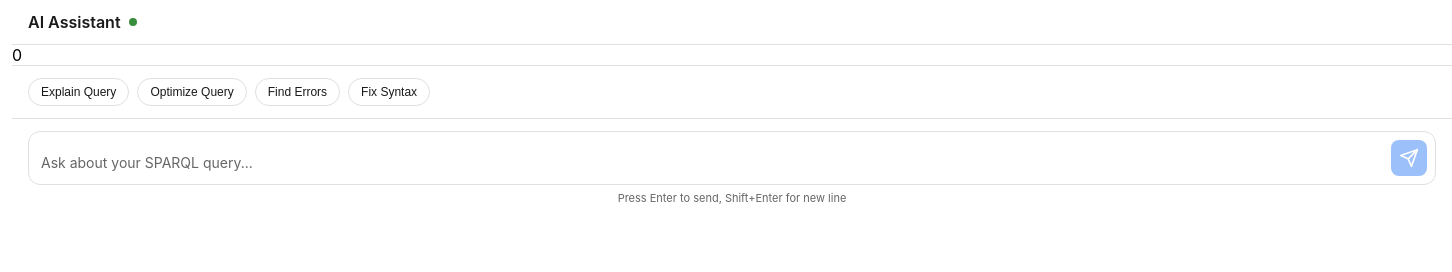
Test: AIPanel - configured › shows thrown stream errors
Type "hi" into the text box with placeholder "Ask about your SPARQL query...".
click(712, 164); type("hi")  # box x1=41 y1=152 x2=1383 y2=176
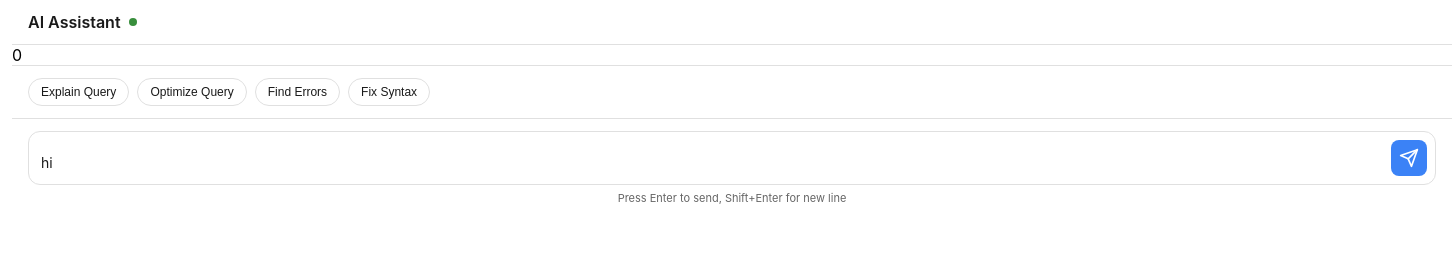
Click the button with class "send-button".
click(1409, 158)  # box x1=1391 y1=140 x2=1427 y2=176
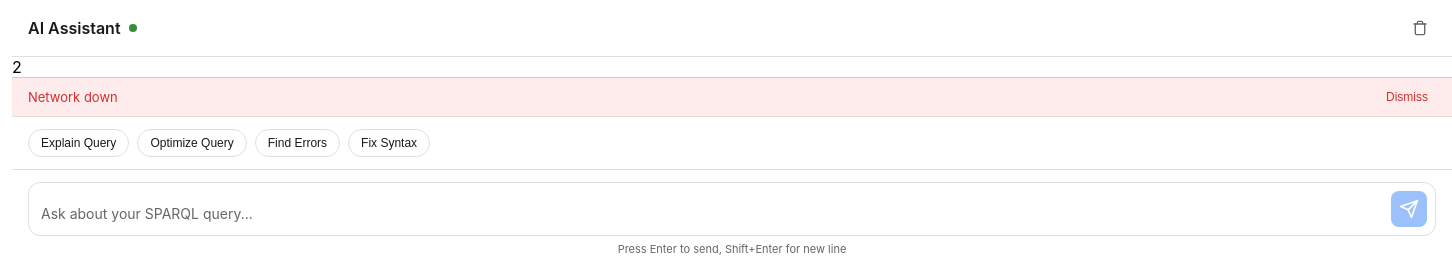
Result: the element with class "error-banner" shows "Network down" at x1=28 y1=89 x2=118 y2=105
